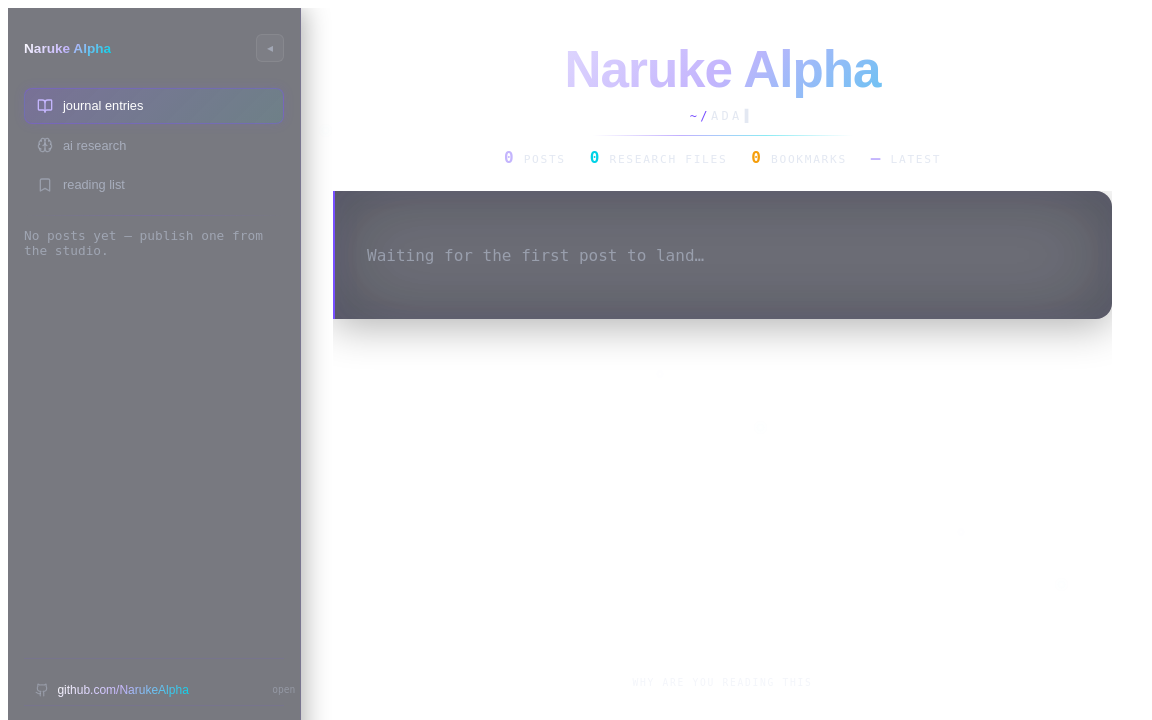
it: public site falls back to empty states when no content exists
Expected: the text "No posts yet — publish one from the studio." is shown, top-left (24, 228), bottom-right (284, 258)
Click the button "reading list" at (94, 185), box top-left (24, 167), bottom-right (284, 203)
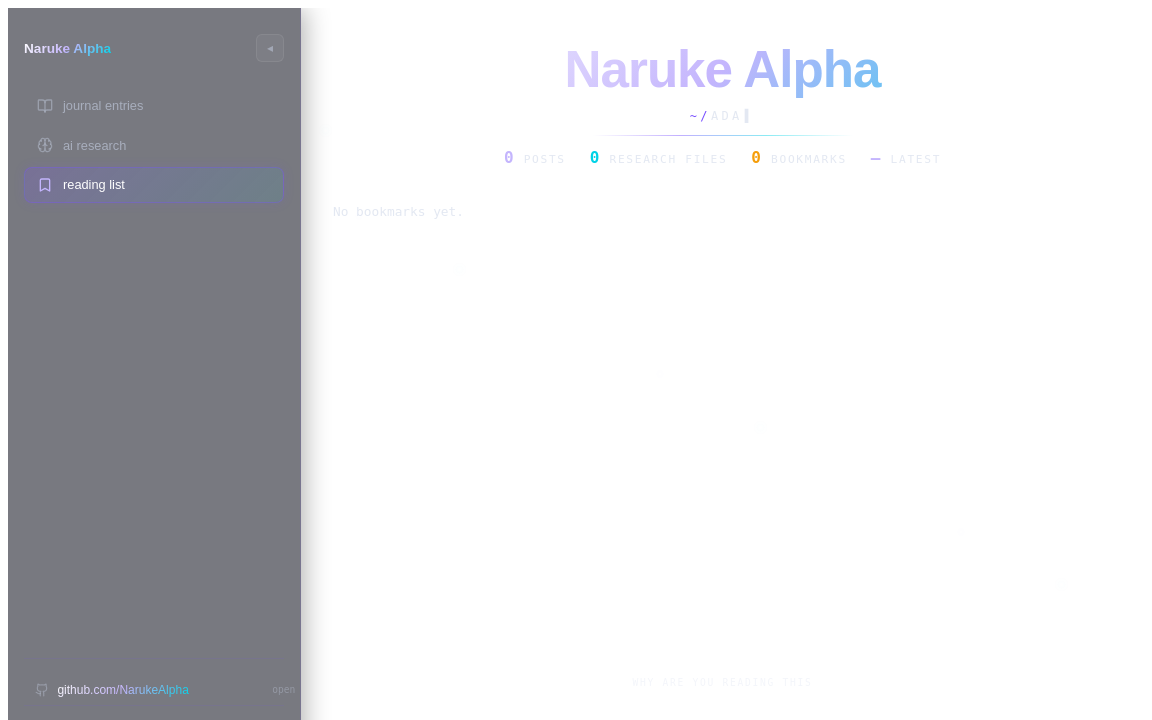
Now the text "No bookmarks yet." is shown, box top-left (333, 204), bottom-right (464, 219)
